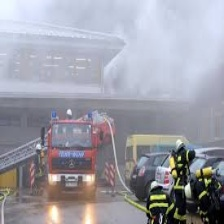smoke: (138, 10, 207, 97)
